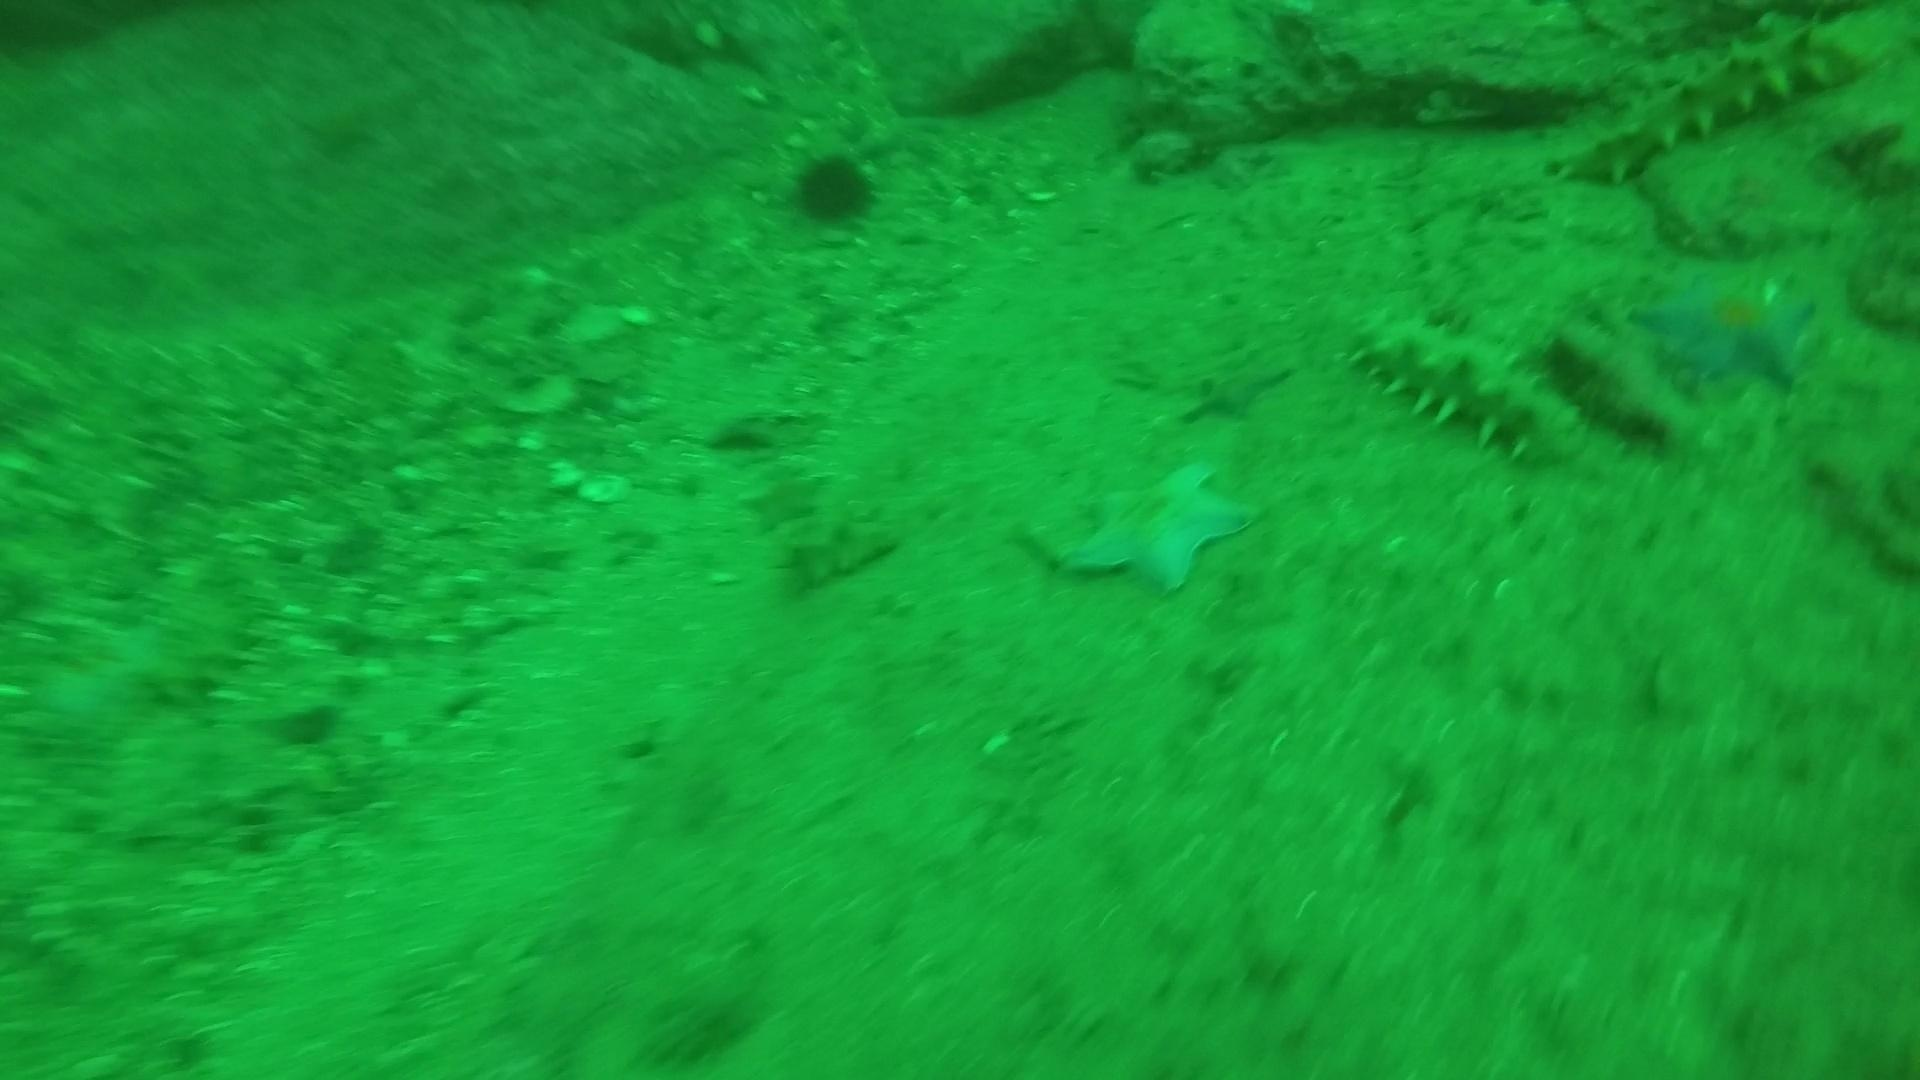echinus: (783, 142, 884, 233)
holothurian: (1553, 11, 1884, 194), (1341, 305, 1586, 471), (160, 560, 270, 699), (791, 524, 895, 593)
starfish: (1054, 454, 1263, 599), (1626, 262, 1826, 400), (1178, 347, 1298, 426), (740, 448, 837, 516)
